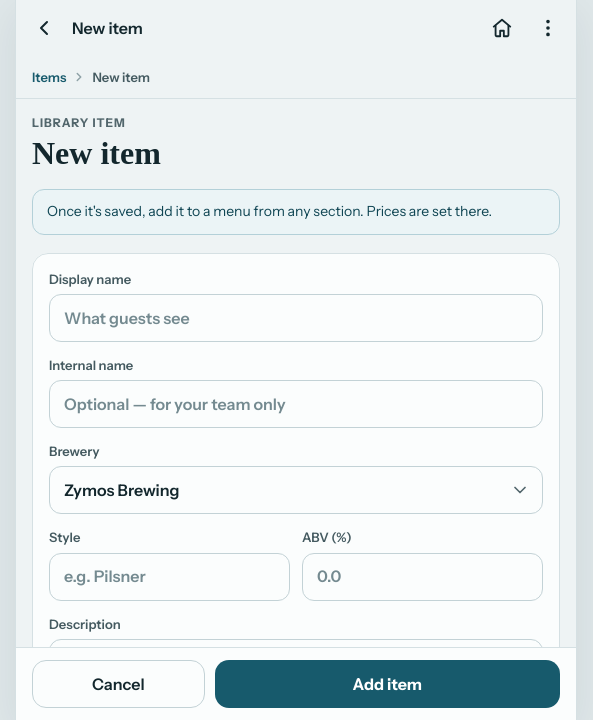
Test: LibraryItemPage › checks the name and ABV before saving
The image size is (593, 720).
Type "strong" into the field labelled "ABV (%)" at {"x": 422, "y": 576}, box [302,552,543,600]
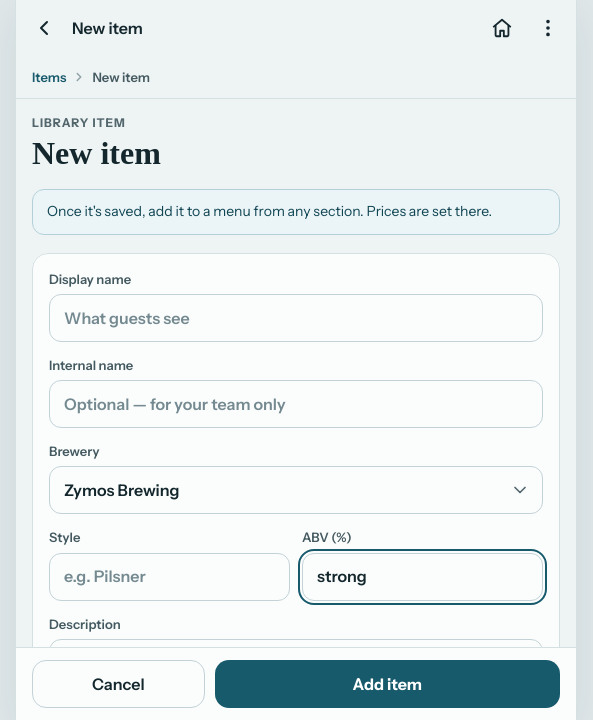
Click the button "Add item" at {"x": 387, "y": 684}, box [215,660,560,708]
(page scrolled)
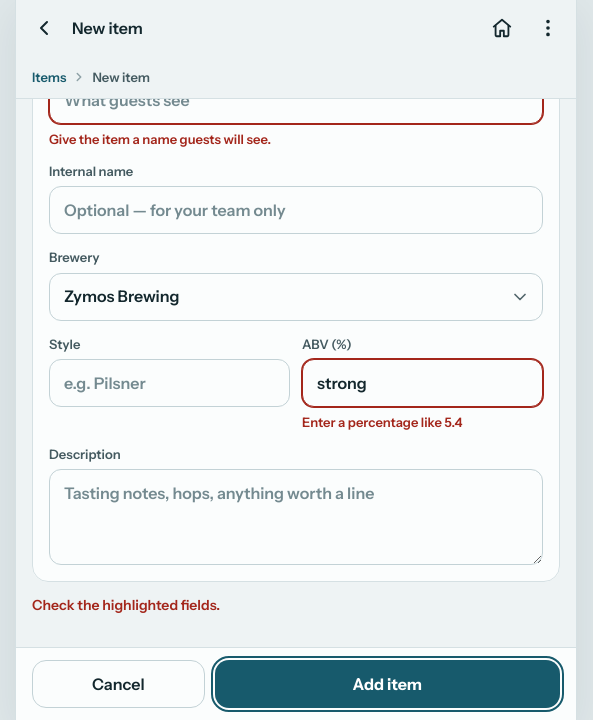
expect the text "Give the item a name guests will see." is shown: met, box [49,131,271,147]
expect the text "Enter a percentage like 5.4" is shown: met, box [302,414,462,430]
expect the message reads "Check the highlighted fields.": met, box [32,596,220,614]
